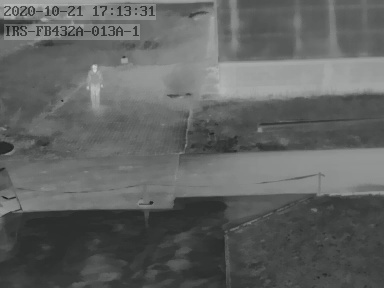person: (84, 63, 104, 111)
